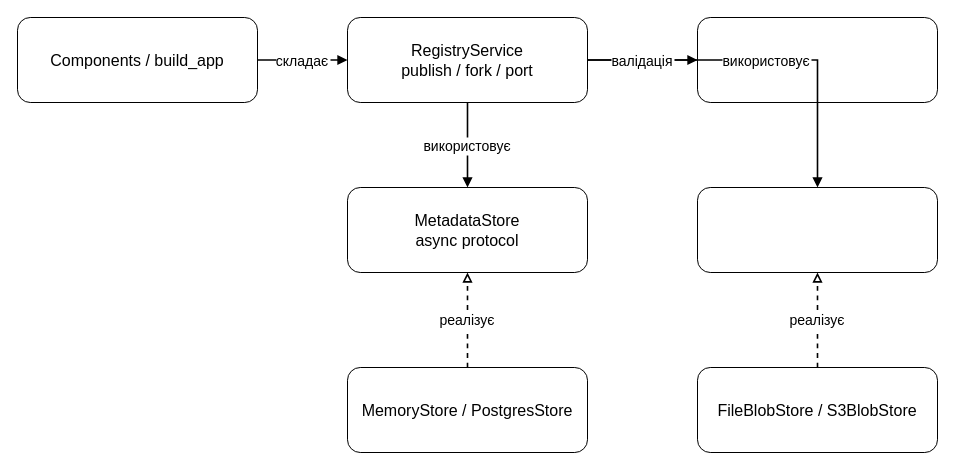
Image size: 955x470. Some labels were removed from this diagram. Each missing label, with the centre of its shape:
"BlobStore async protocol" goes at [817,229].
"PackageValidator / ProfileSource" goes at [817,59].
